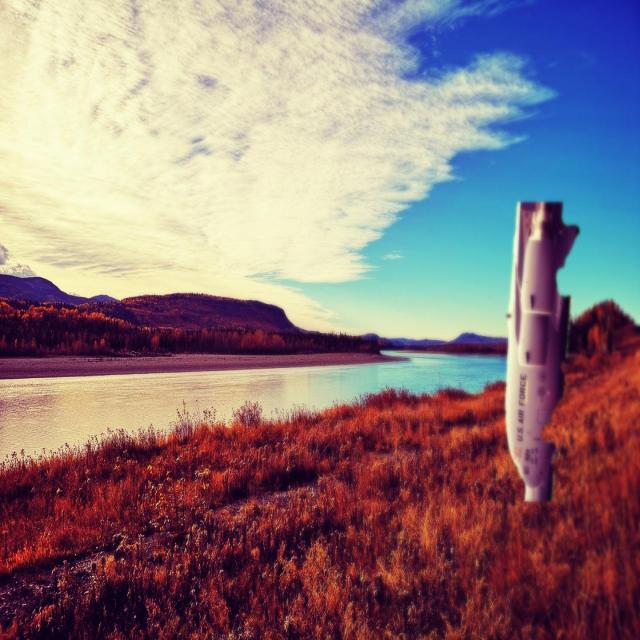airplane: (504, 199, 580, 503)
